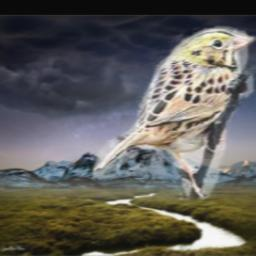Sparrow: (93, 26, 255, 200)
